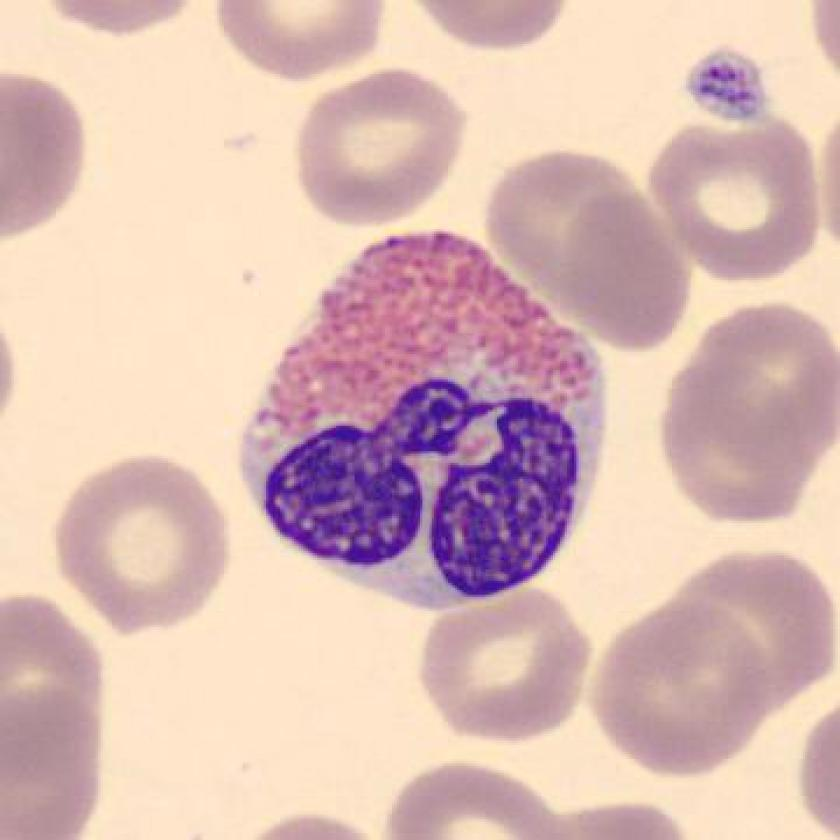eosinophil: (220, 218, 622, 619)
